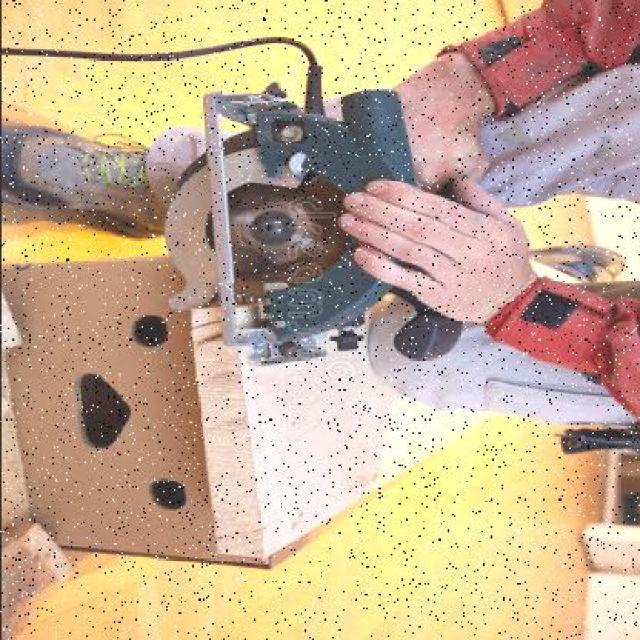shoes: (1, 123, 177, 240)
